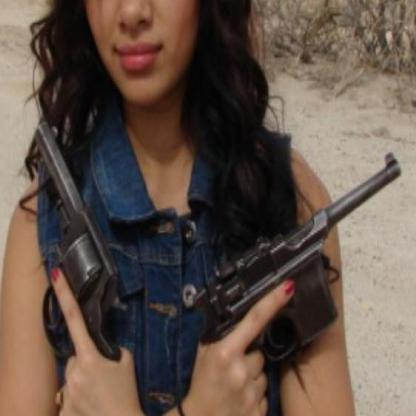gun: (194, 151, 407, 373), (33, 117, 131, 415)
